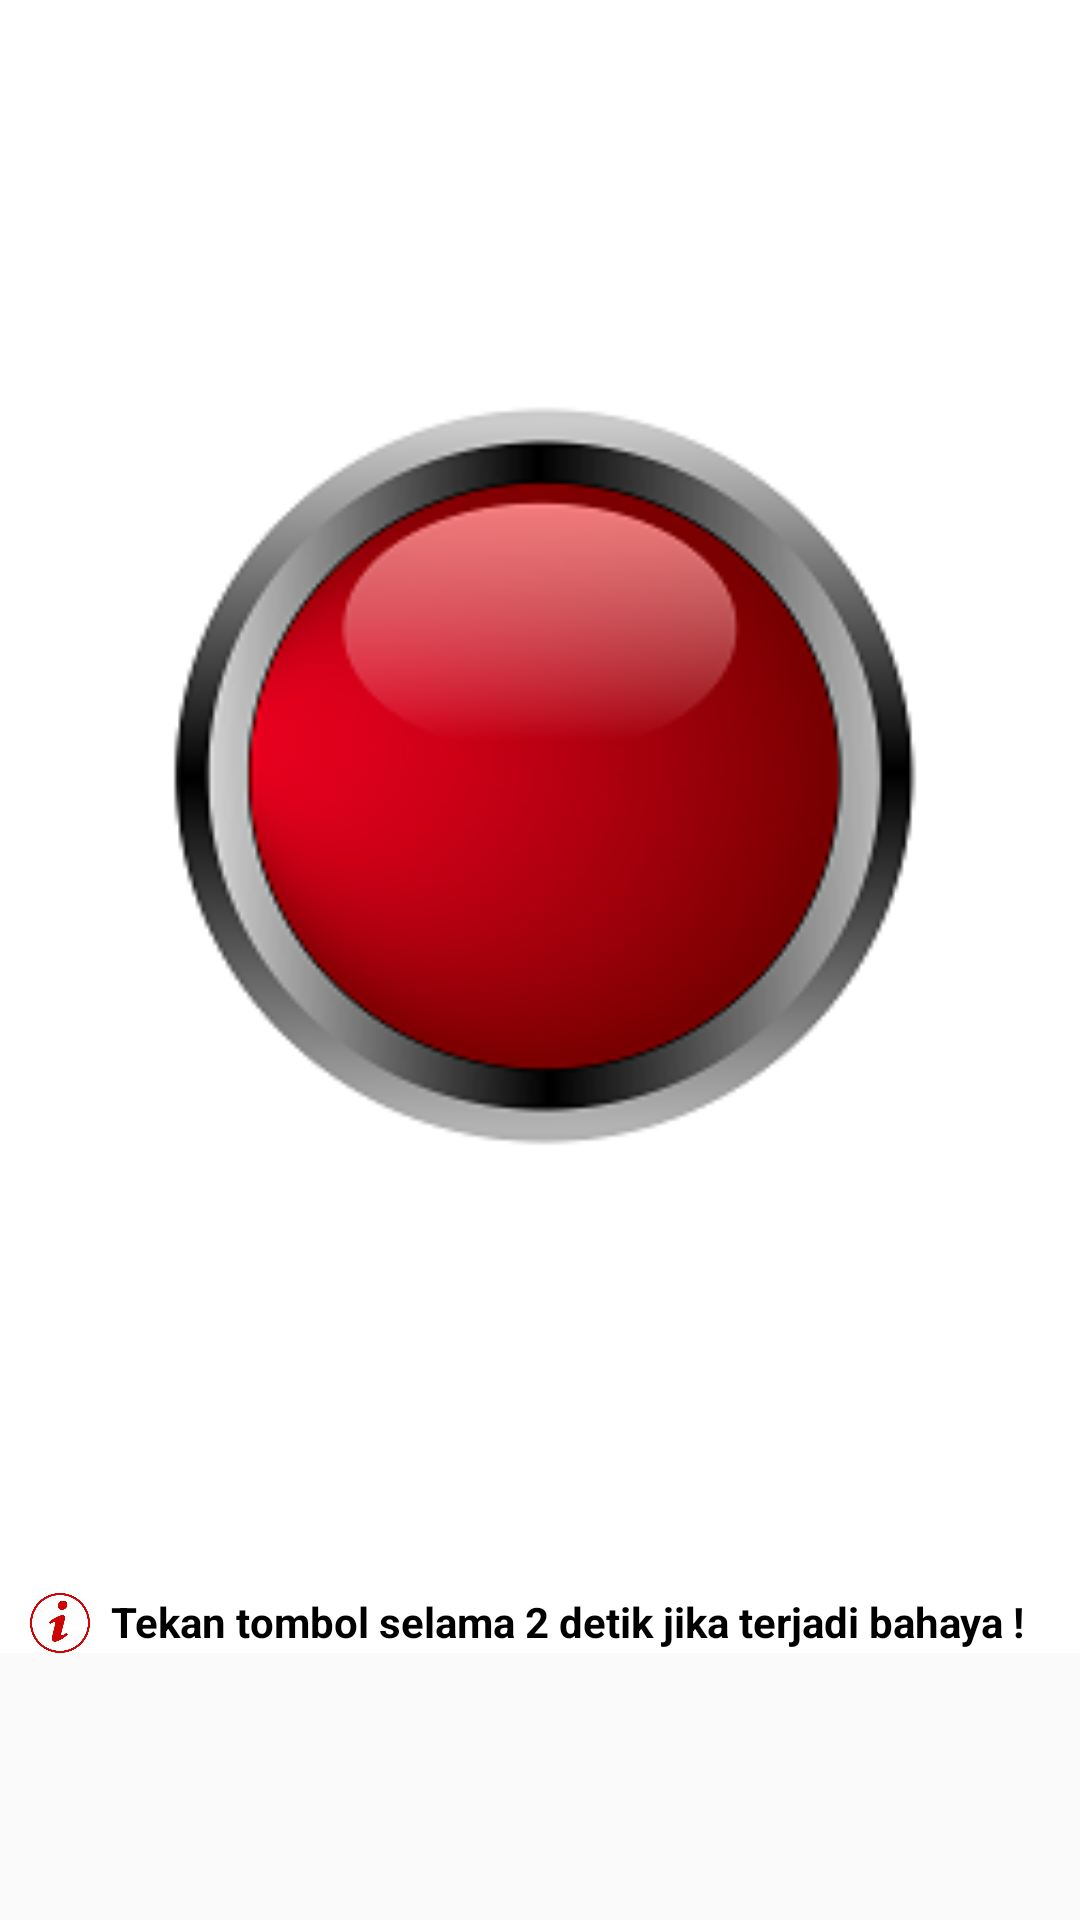

Locate icon controls on the screen. Image size 1080x1920, boxes as (x1, y1, x2, y2).
info: (30, 1593, 90, 1653)
